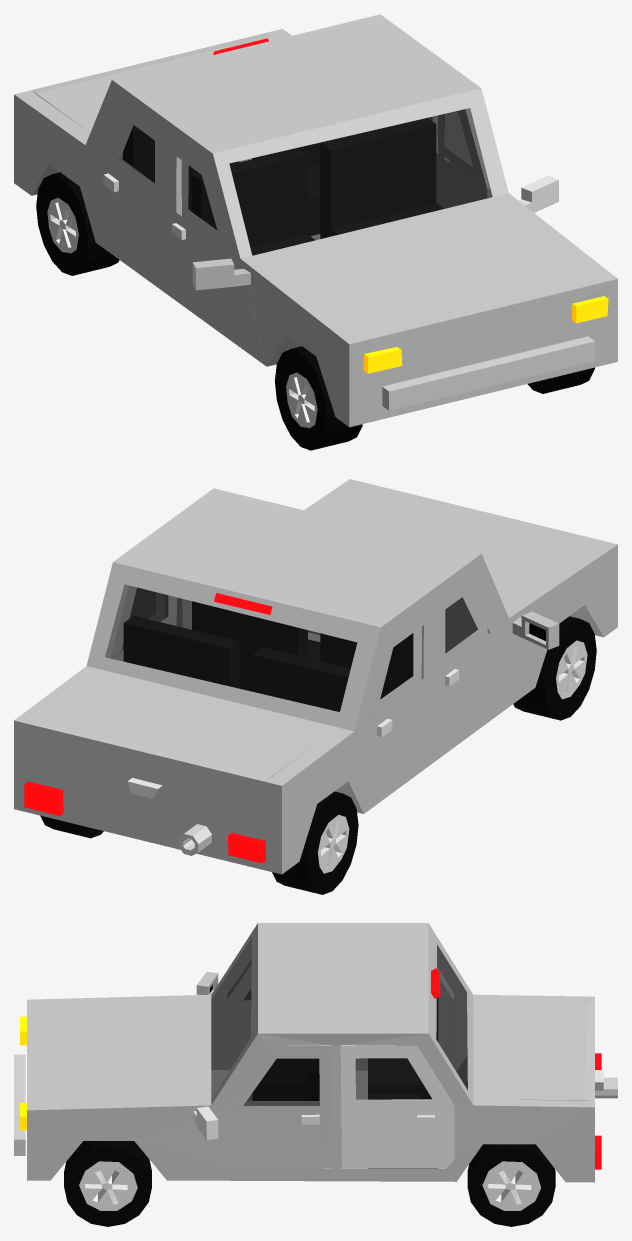
Rendered from car.glb.
3 renders of one model, top to bottom at view 1: azimuth 30°, elevation 25°; view 2: azimuth 150°, elevation 25°; view 3: azimuth 270°, elevation 25°, orthographic. The views are drawn at different scales.
Visible parts, largest first — view 1: Cube001, Cube001_2, FrontHatch, Cube001_1, Cube010, Cube002, FrontBumber, Cube005, Cylinder002_1, Cylinder003_1, Cube003, Cube001_3 (+8 smaller); view 2: Cube001, Cube005, Cube001_2, Cube001_1, FrontHatch, Cube010, Cube002, Cylinder003_1, Cylinder002_1, Cube001_4, Cube012, Cylinder002 (+7 smaller); view 3: Cube001, FrontHatch, Cube005, Cube012, Cube003, Cube001_2, Cube001_1, Cylinder001_1, Cylinder004_1, Cube003_1, Cube012_1, Cylinder001 (+7 smaller).
Part boxes in pixels (x1,y1,x2,y2): Cube001: (14,14,617,427); Cube001_2: (229,108,492,255); FrontHatch: (267,206,592,334); Cube001_1: (123,118,443,255); Cube010: (96,99,163,276); Cube002: (169,136,231,326); FrontBumber: (382,336,595,410); Cube005: (31,32,276,132); Cylinder002_1: (275,346,362,450); Cylinder003_1: (36,172,119,275); Cube003: (428,108,492,208); Cube001_3: (363,296,608,373); Cube001: (14,479,617,874); Cube005: (28,677,326,828); Cube001_2: (105,584,466,711); Cube001_1: (123,601,413,711); FrontHatch: (322,489,593,605); Cube010: (365,604,432,793); Cube002: (438,573,499,744); Cylinder003_1: (272,791,358,894); Cylinder002_1: (513,616,596,720); Cube001_4: (24,593,272,863); Cube012: (105,584,176,661); Cylinder002: (556,640,587,699); Cube001: (27,923,594,1182); FrontHatch: (40,1002,195,1103); Cube005: (489,1002,594,1100); Cube012: (340,1045,454,1168); Cube003: (227,1045,331,1168); Cube001_2: (211,938,467,1097); Cube001_1: (252,997,438,1168); Cylinder001_1: (64,1141,151,1226); Cylinder004_1: (467,1144,555,1226); Cube003_1: (243,1058,319,1105); Cube012_1: (355,1058,431,1099); Cylinder001: (79,1161,137,1210).
Bounding box in the file's own units: 6.76 × 4.06 × 11.53.
